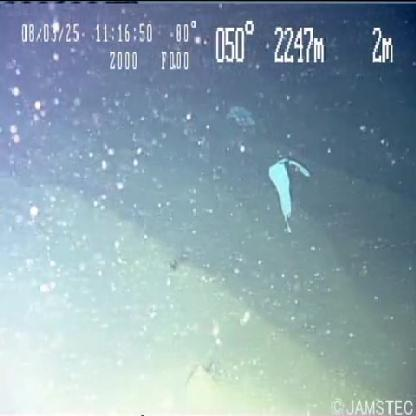Rác: (269, 160, 294, 221)
